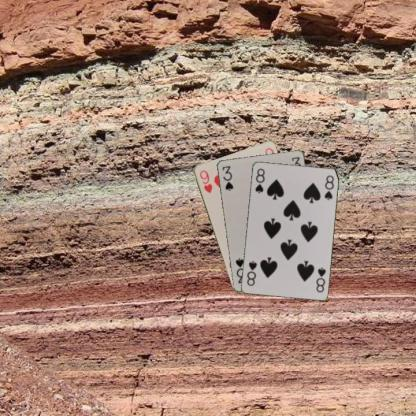3s: (219, 163, 234, 192)
8s: (313, 264, 327, 294), (252, 165, 266, 194)
9h: (197, 168, 213, 194)
